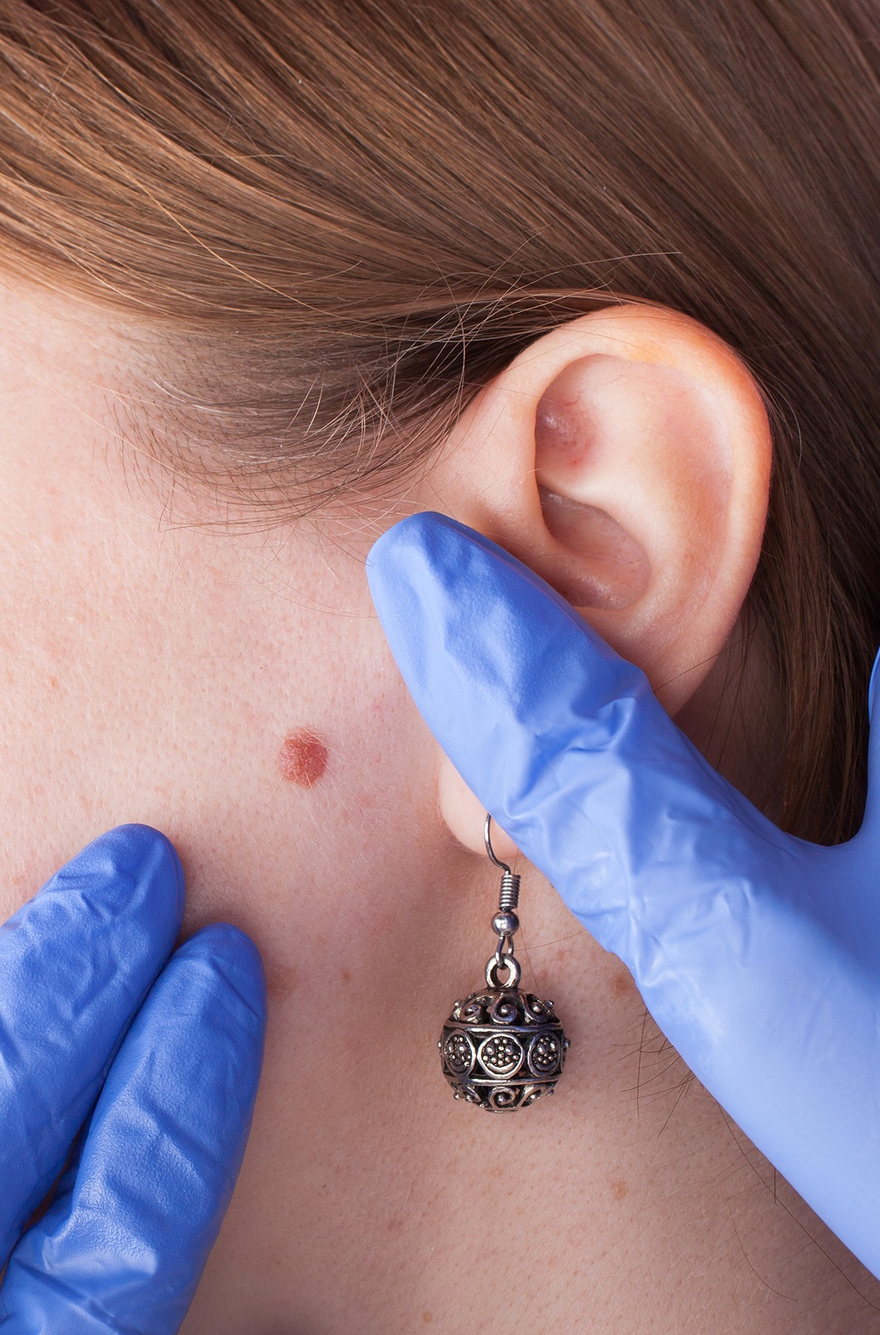Warts: (242, 701, 360, 828)
